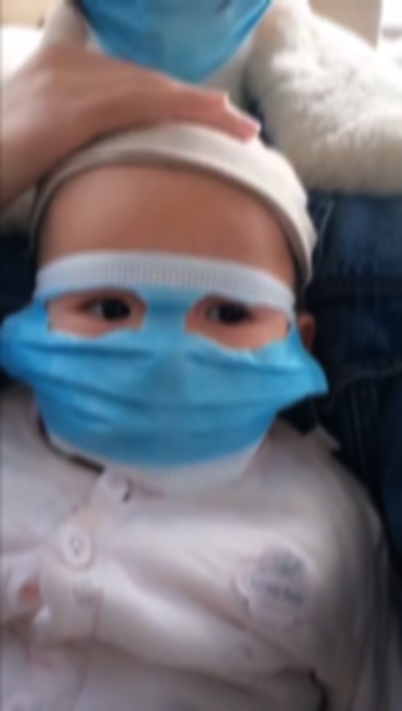mask_weared_incorrect: (0, 134, 325, 475)
